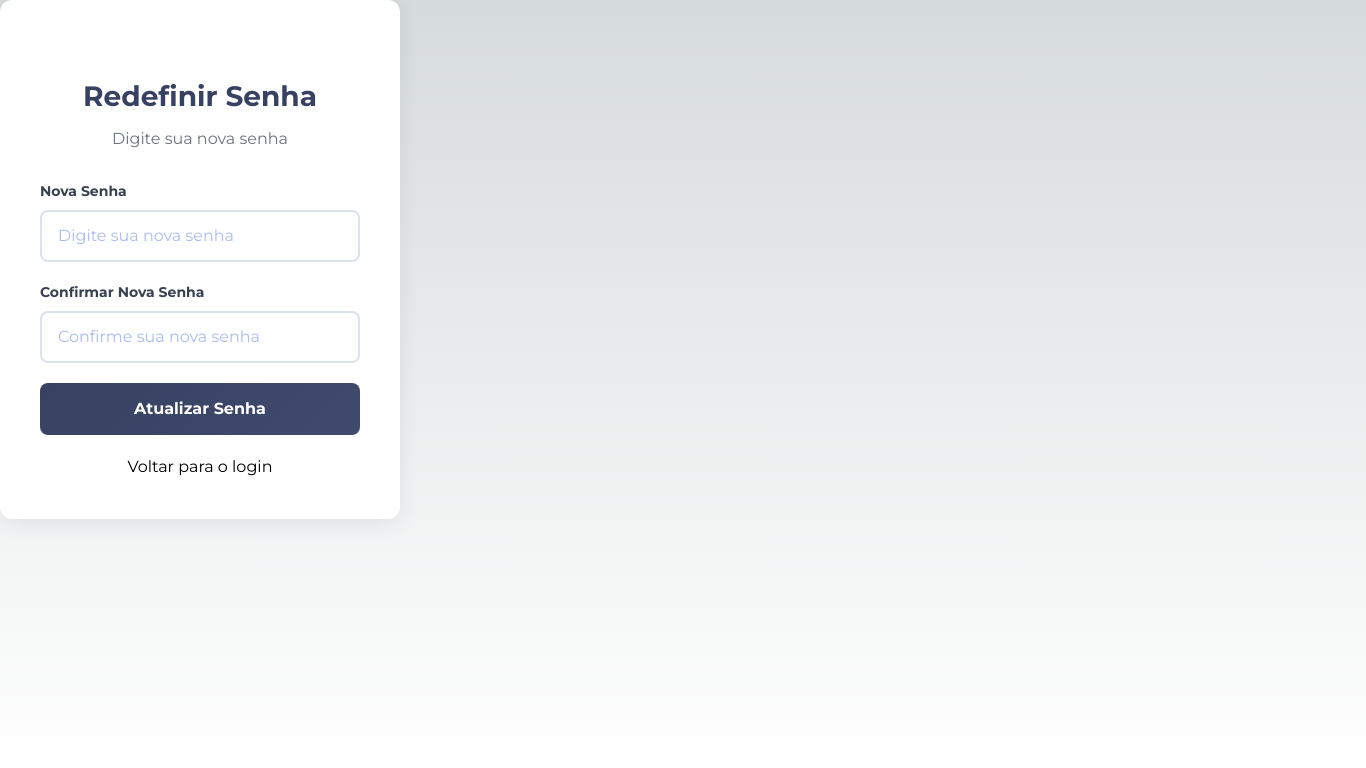
Test: ResetPasswordPage › deve validar se senhas coincidem
Type "password123" into the password field labelled "Nova Senha".
click(200, 236); type("password123")  # box [40,210,360,262]
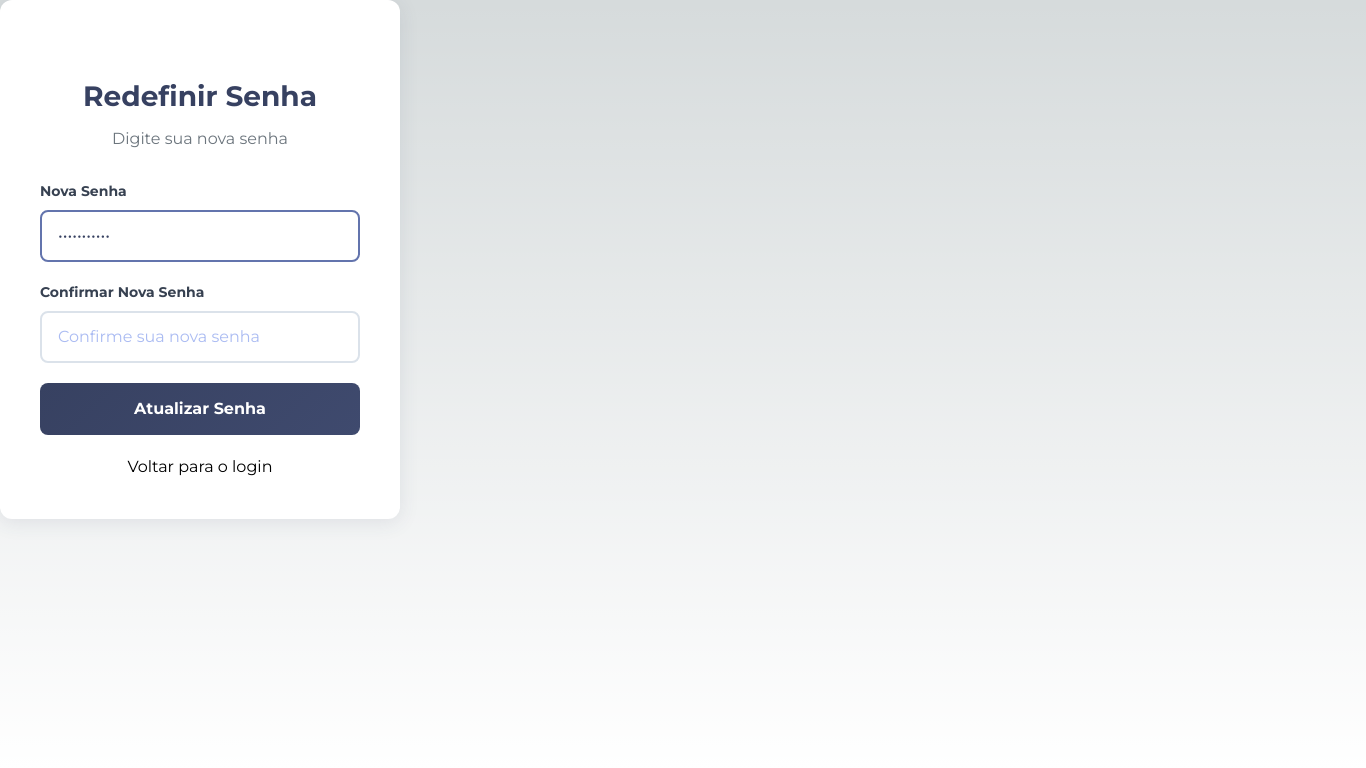
Type "different123" into the password field labelled "Confirmar Nova Senha".
click(200, 337); type("different123")  # box [40,311,360,363]
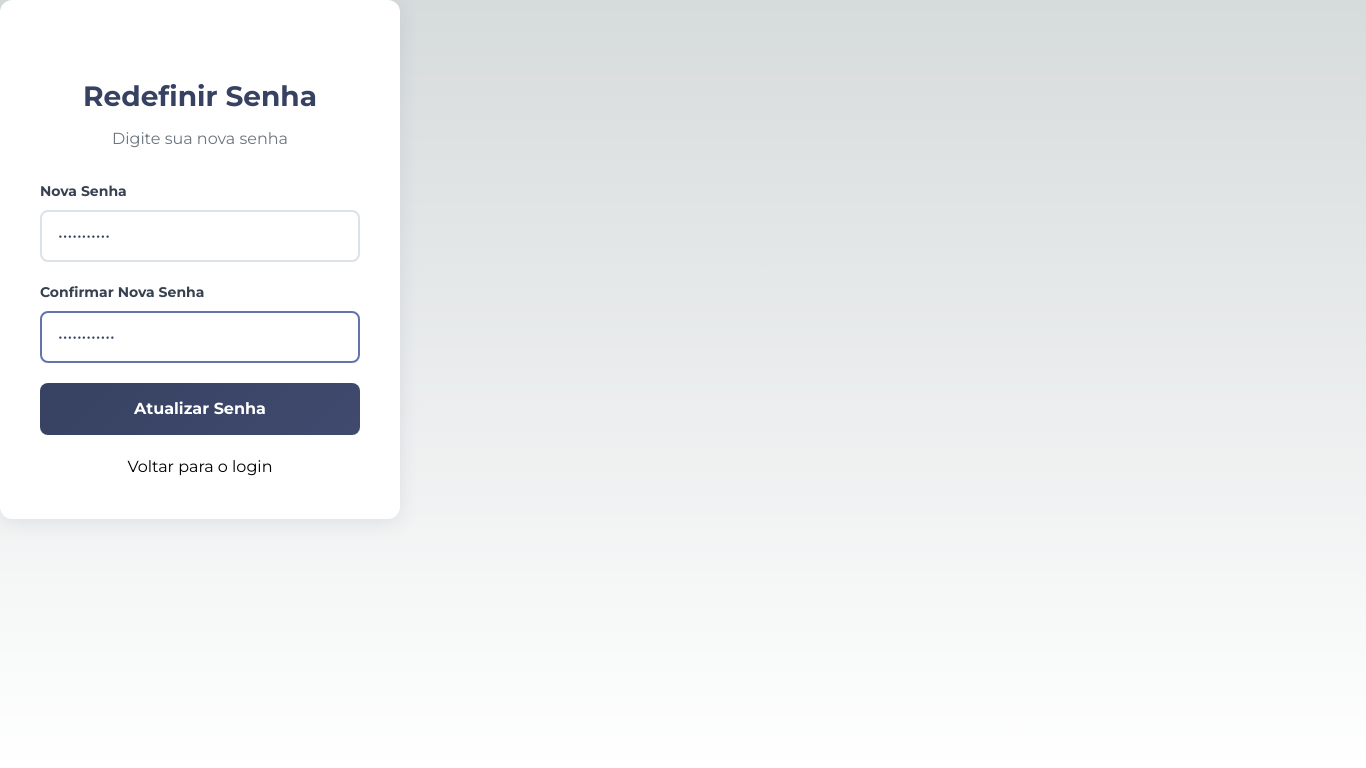
Click the button "Atualizar Senha".
click(200, 409)  # box [40,383,360,435]
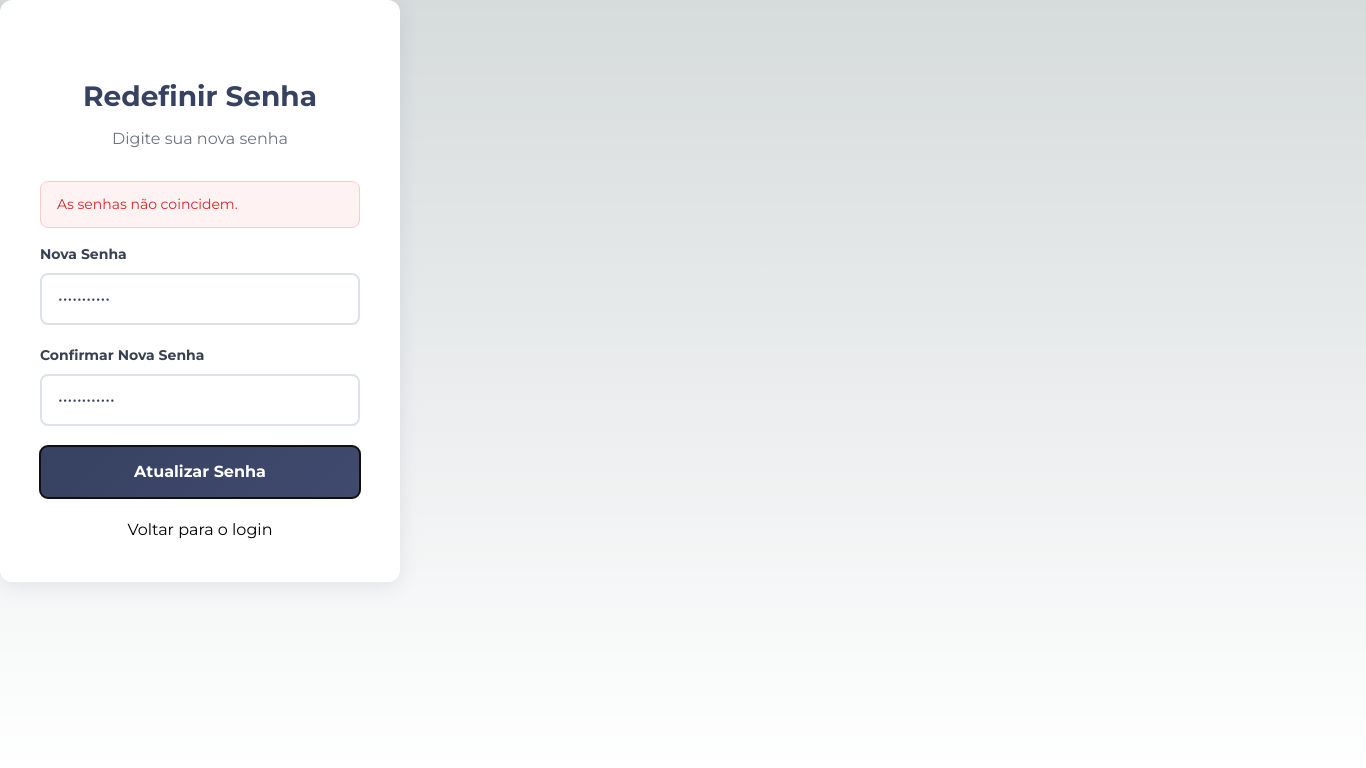
Now the text "As senhas não coincidem." is shown, box [40,181,360,228]
